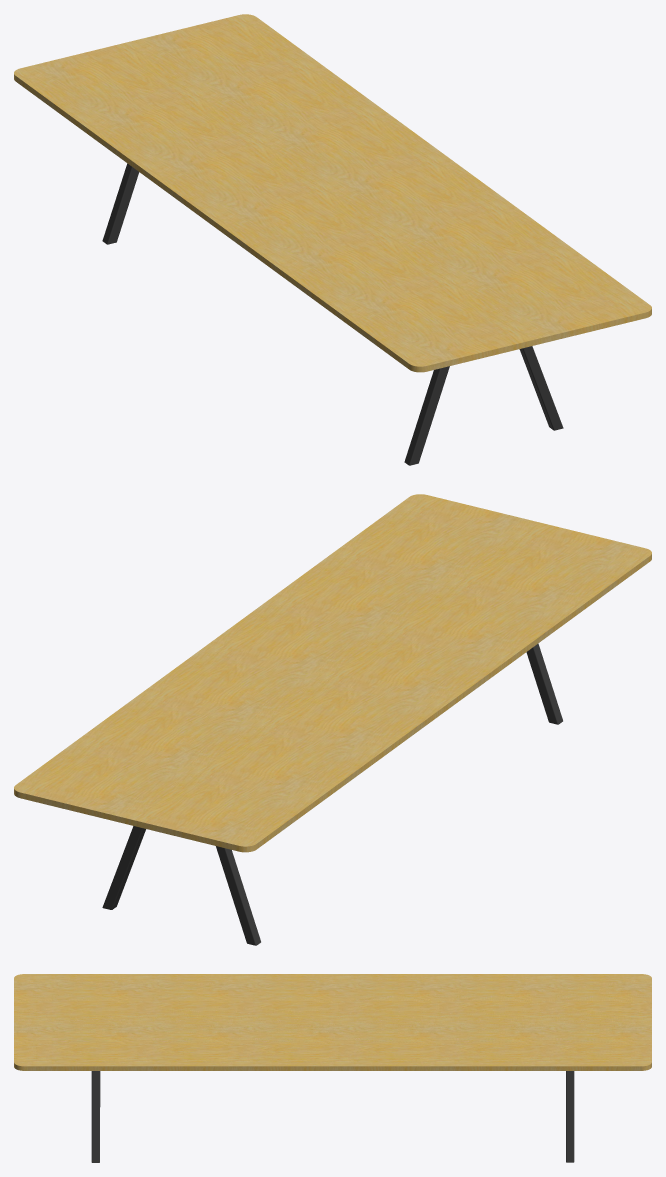
The picture shows the model from 3 angles, top to bottom: view 1: azimuth 30°, elevation 25°; view 2: azimuth 150°, elevation 25°; view 3: azimuth 270°, elevation 25°; orthographic projection. The views are drawn at different scales.
Parts seen in each view (by area): view 1: Big_tafelblad_130x380, Big_poot (×3); view 2: Big_tafelblad_130x380, Big_poot (×3); view 3: Big_tafelblad_130x380, Big_poot (×2).
Boxes of the visible parts, left/top/right/bottom form: Big_tafelblad_130x380: left=14, top=14, right=651, bottom=372; Big_poot (×3): left=102, top=163, right=563, bottom=465; Big_tafelblad_130x380: left=14, top=494, right=651, bottom=852; Big_poot (×3): left=102, top=643, right=562, bottom=945; Big_tafelblad_130x380: left=14, top=974, right=651, bottom=1070; Big_poot (×2): left=91, top=1071, right=574, bottom=1162.
Bounding box in the file's own units: 51.18 × 150 × 29.35.
2 materials, 1 textured.
